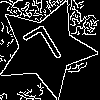L: (21, 23, 70, 77)
